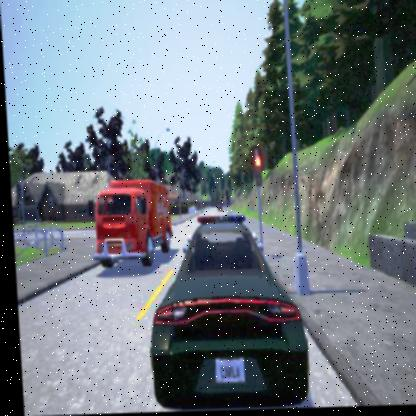vehicle: (139, 215, 306, 411), (86, 179, 171, 267)
